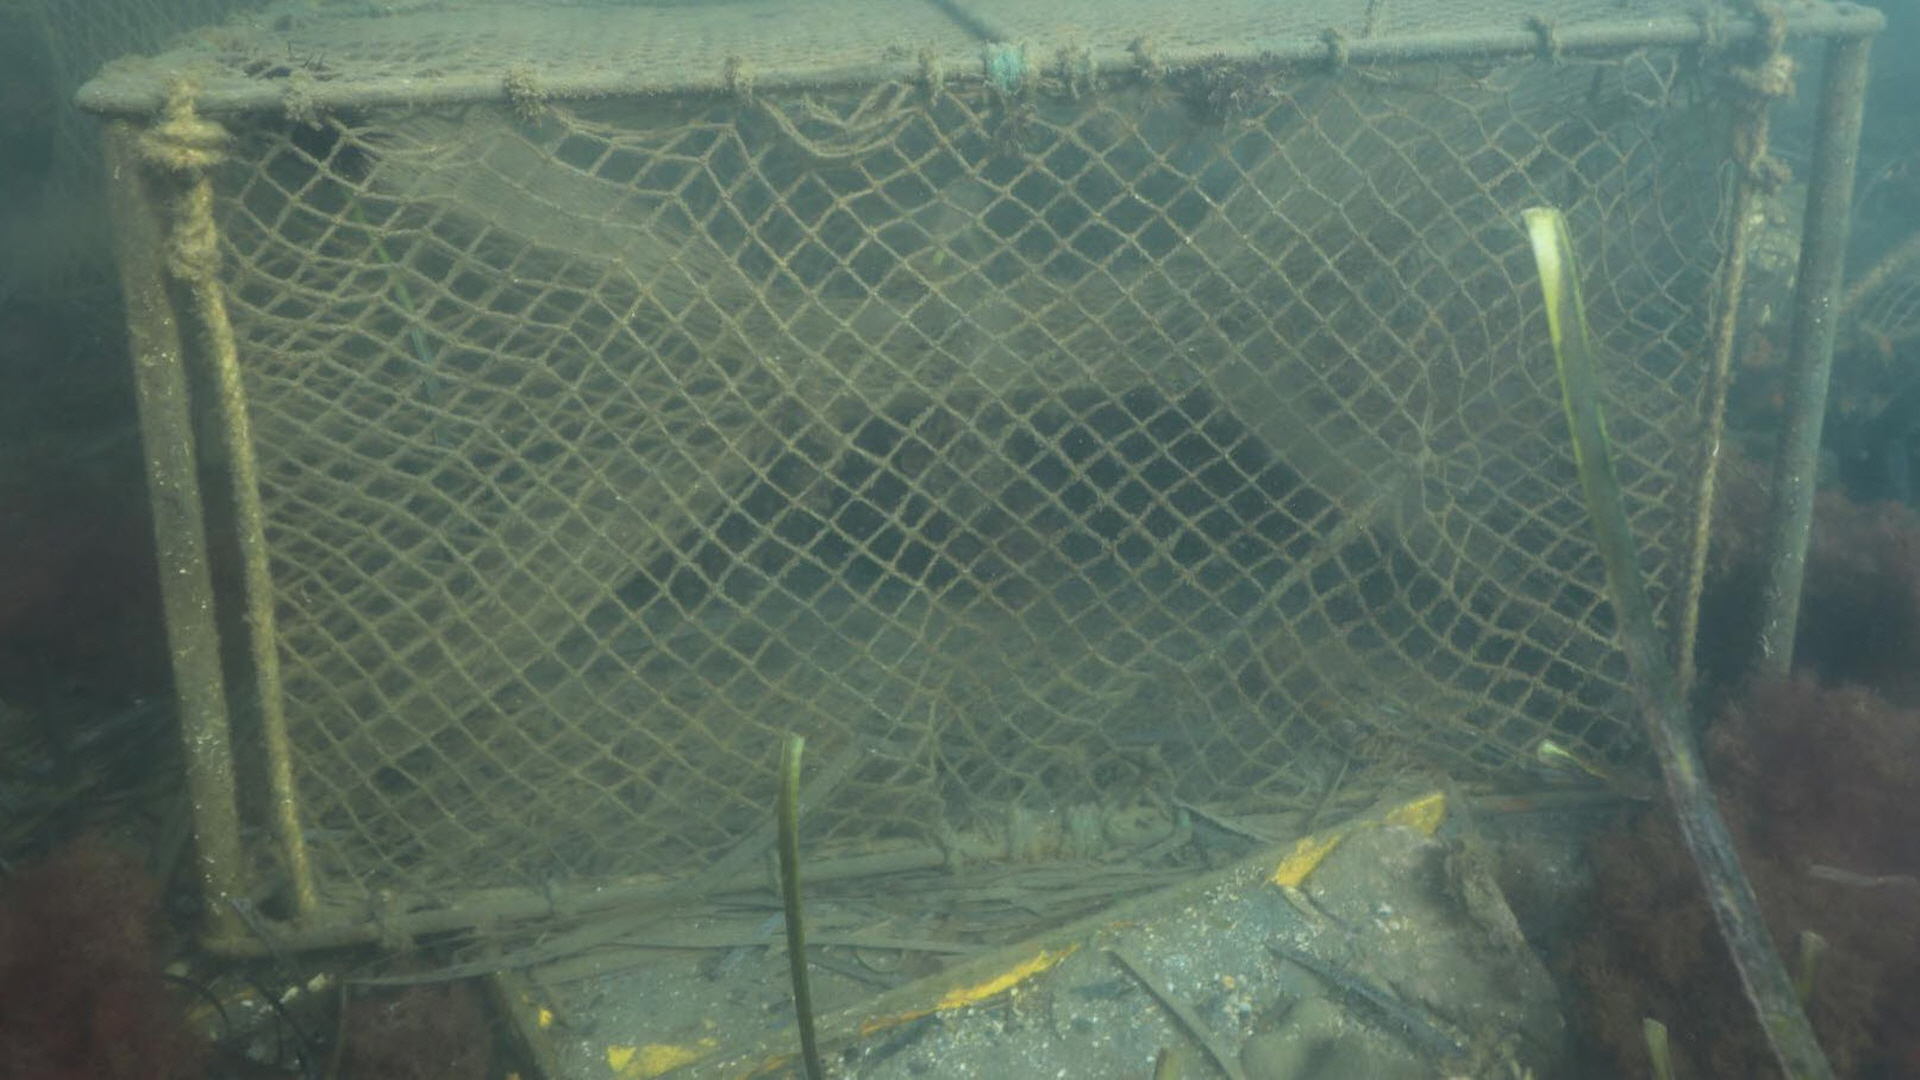rectangular fish trap: (69, 0, 1888, 953)
